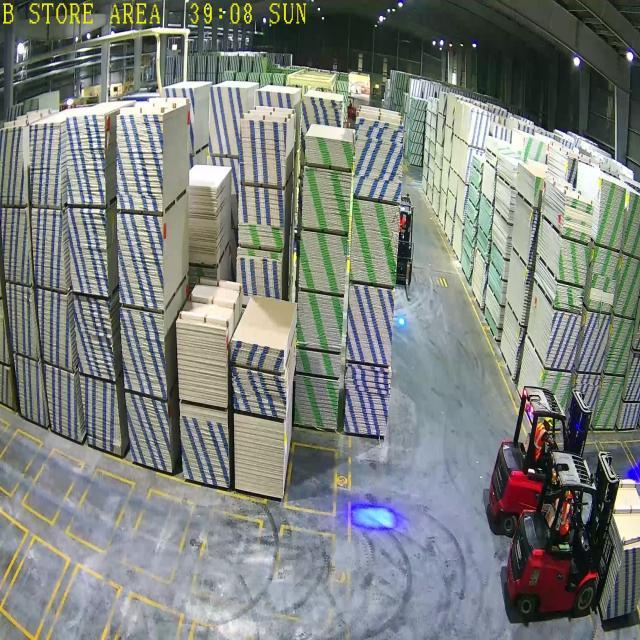material_stack: (234, 414, 284, 498), (353, 118, 404, 200), (350, 199, 399, 283), (346, 285, 394, 365), (343, 364, 391, 436), (302, 167, 351, 231), (299, 231, 347, 293), (296, 292, 344, 351), (232, 367, 286, 418), (295, 376, 339, 430), (588, 246, 620, 313), (596, 178, 626, 249), (545, 312, 581, 370), (535, 370, 571, 428), (578, 312, 611, 372), (567, 375, 600, 429), (231, 341, 284, 373), (594, 376, 625, 428), (606, 317, 634, 374), (615, 255, 640, 317), (305, 135, 353, 167), (557, 238, 589, 286), (562, 195, 593, 242), (296, 350, 340, 377), (623, 191, 640, 257), (555, 284, 584, 312)
